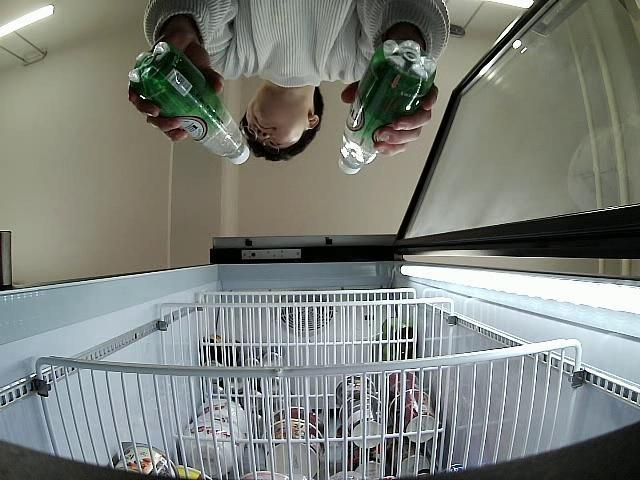18_trevi: (129, 44, 250, 164), (341, 38, 436, 174)
